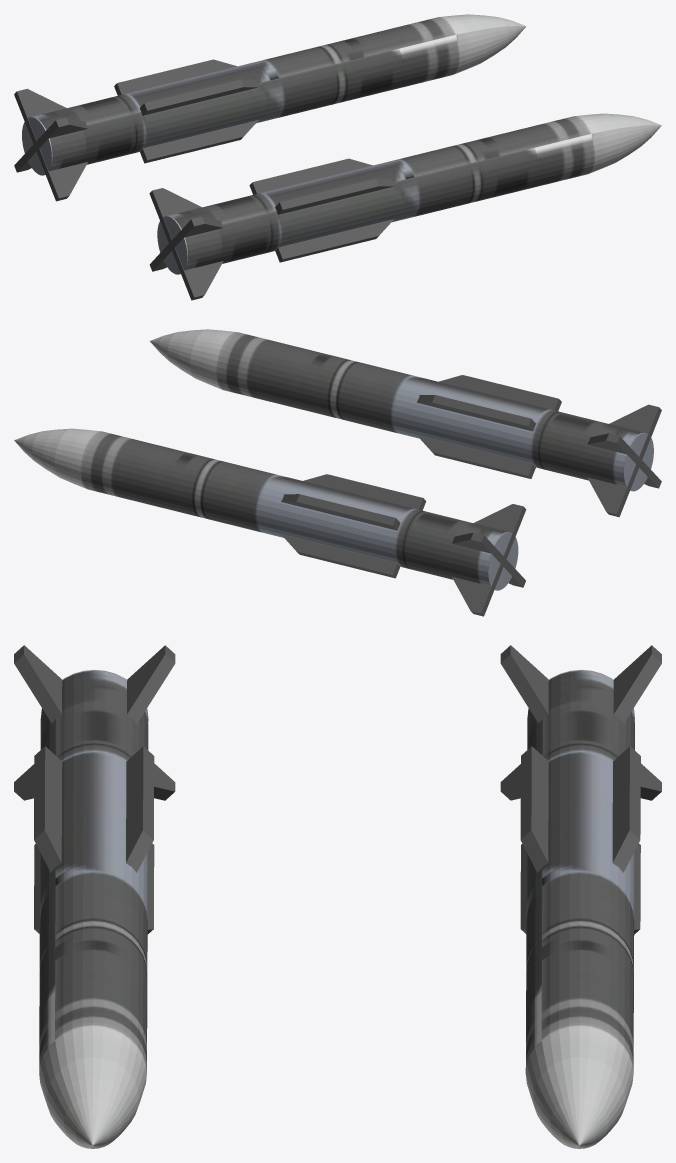
3 views of the same model, one above another, from view 1: azimuth 30°, elevation 25°; view 2: azimuth 150°, elevation 25°; view 3: azimuth 270°, elevation 25° (orthographic). The views are drawn at different scales.
Parts seen in each view (by area): view 1: 円柱.015, 円柱.014; view 2: 円柱.015, 円柱.014; view 3: 円柱.014, 円柱.015.
Part boxes in pixels (x1,y1,x2,y2): 円柱.015: (14,14,526,201); 円柱.014: (149,113,661,300); 円柱.015: (14,428,526,616); 円柱.014: (150,329,661,517); 円柱.014: (14,645,175,1148); 円柱.015: (500,645,661,1148).
Bounding box in the file's own units: 5.01 × 0.7959 × 3.2.
Materials: 3 (1 with a texture image).
